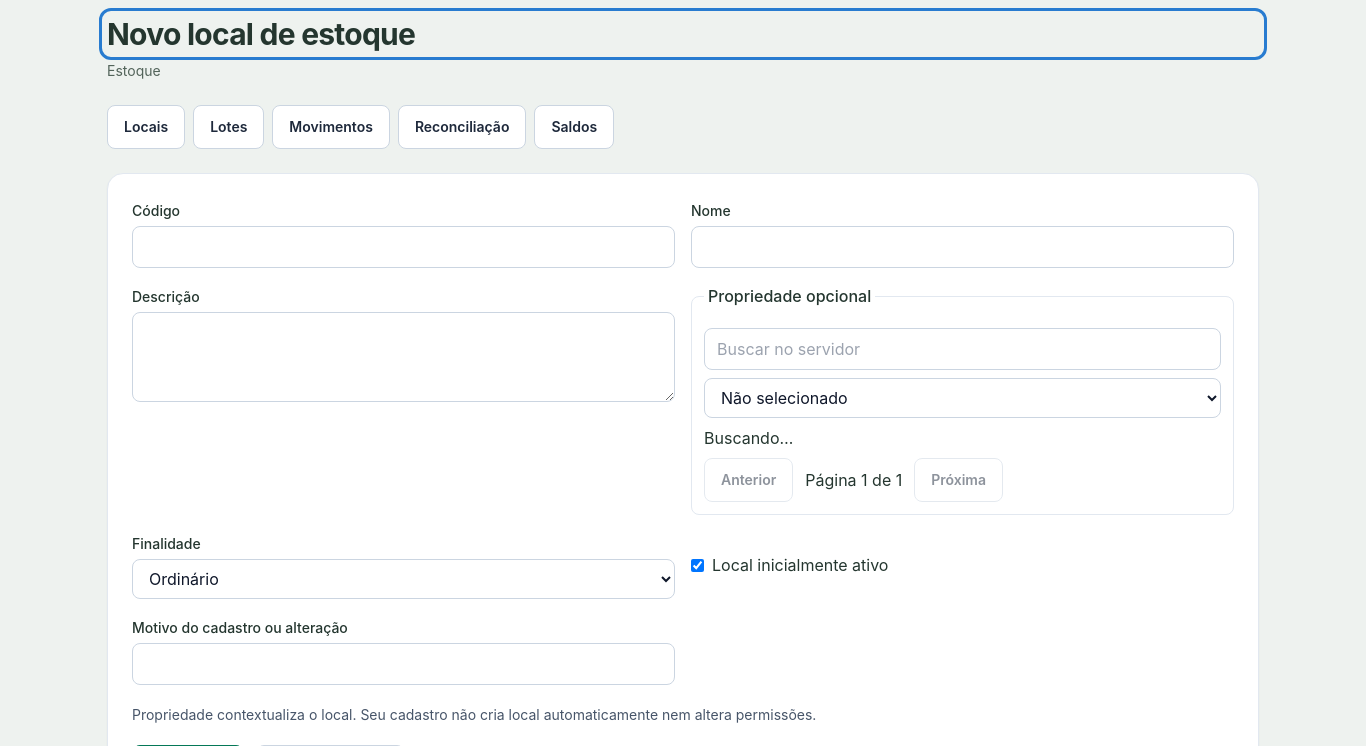
Test case: Cadastros e consultas de estoque › cria local sem saldo e envia metadados, versão zero e chave idempotente
The image size is (1366, 746).
In the field labelled "Código": (404,247) 132,226 -> 675,268, type "DEP"
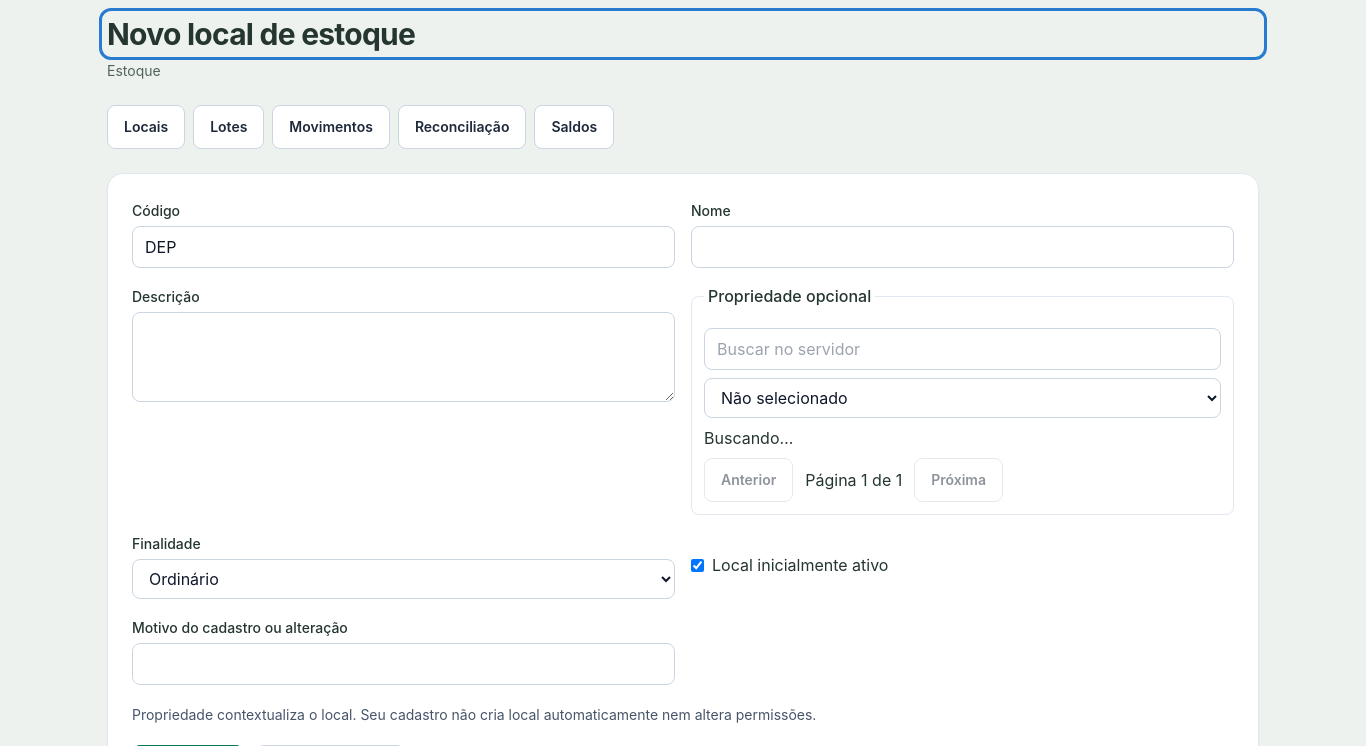
In the field labelled "Nome": (962,247) 691,226 -> 1234,268, type "Depósito"
(page scrolled)
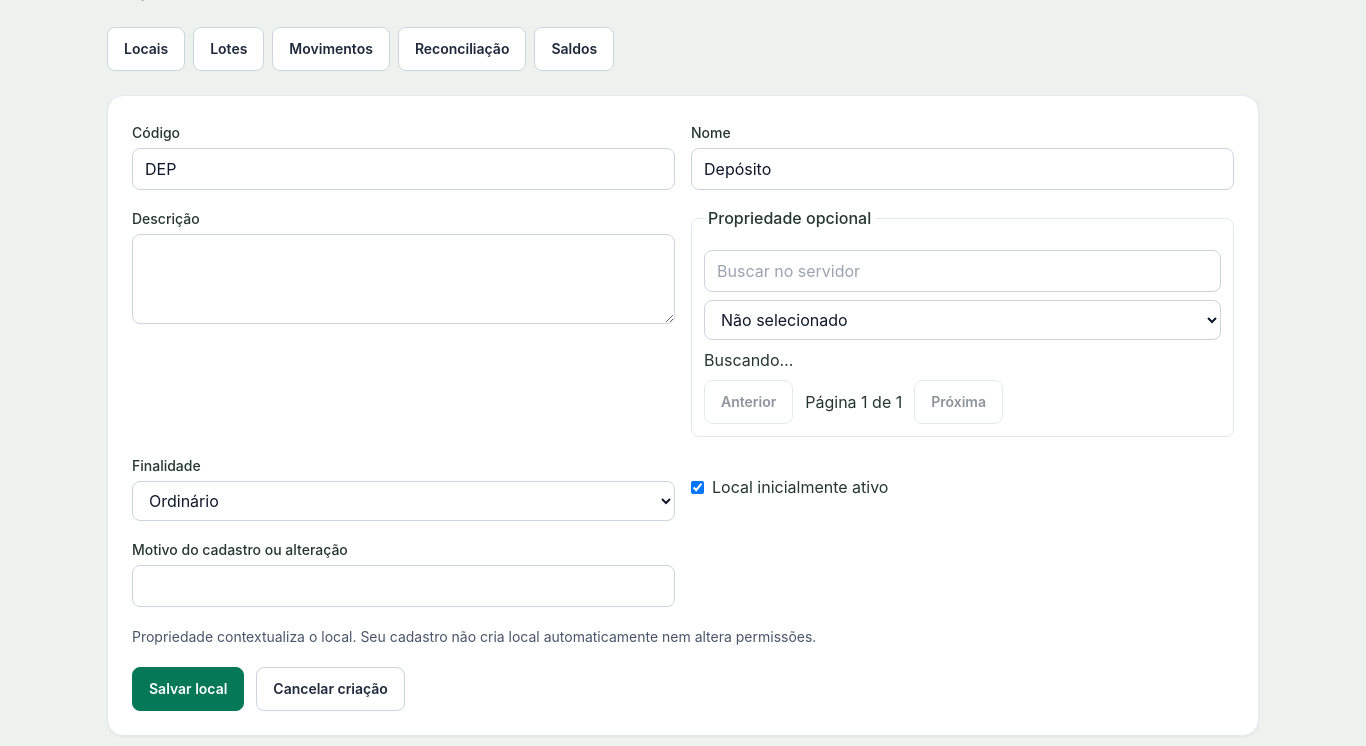
Click the button "Salvar local": (188,689) 132,667 -> 244,711
(page scrolled)
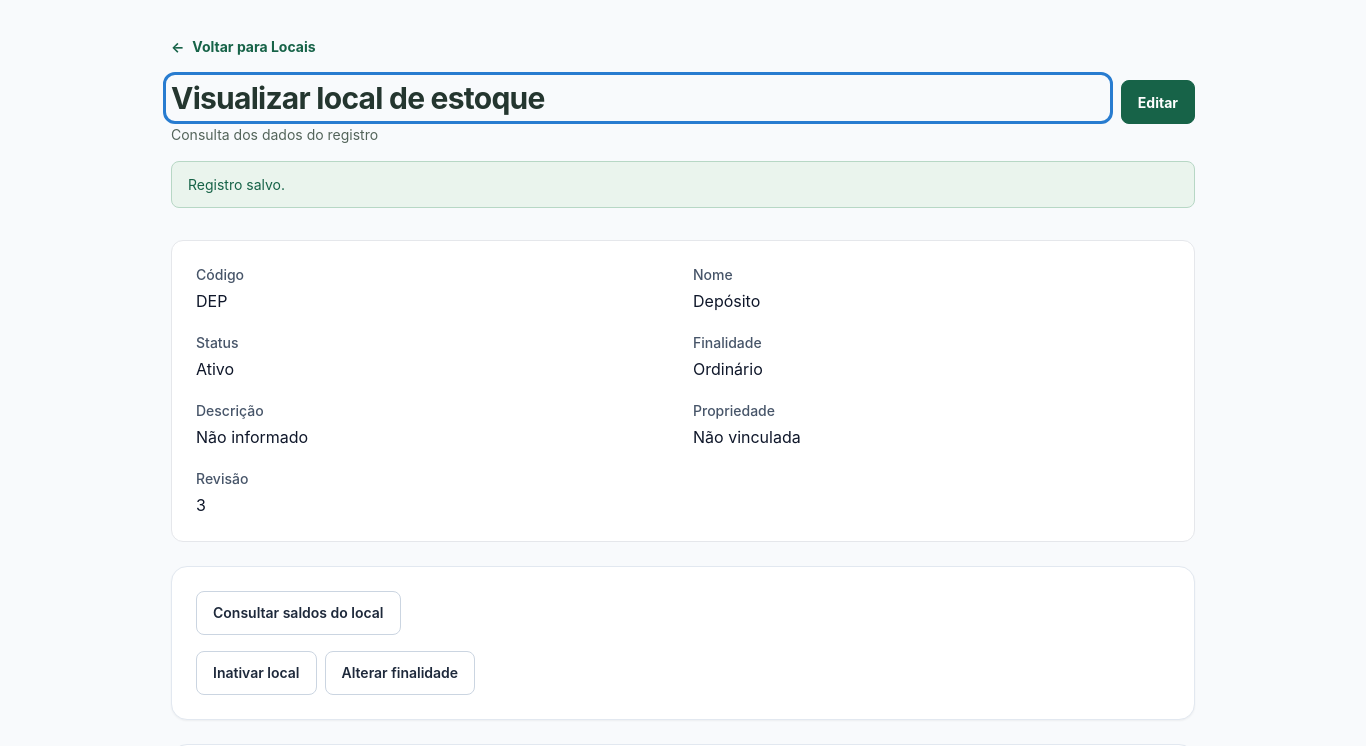
Expected: the heading "Visualizar local de estoque" is shown, 171,80 -> 545,116
